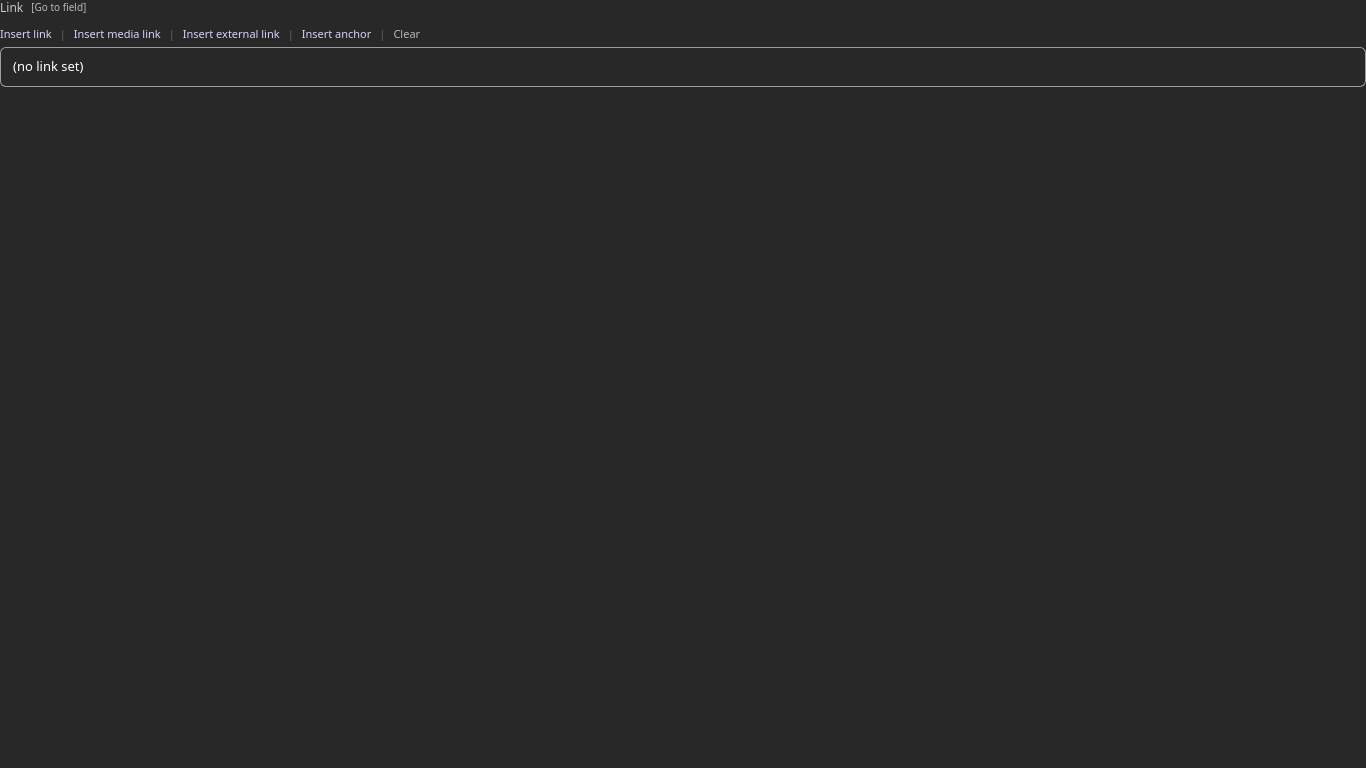
Test: GeneralLinkFieldEditor Insert link integration › clicking Insert external link opens the InsertExternalLinkDialog
Click the button "Insert external link": (231, 34) [183,26,280,42]
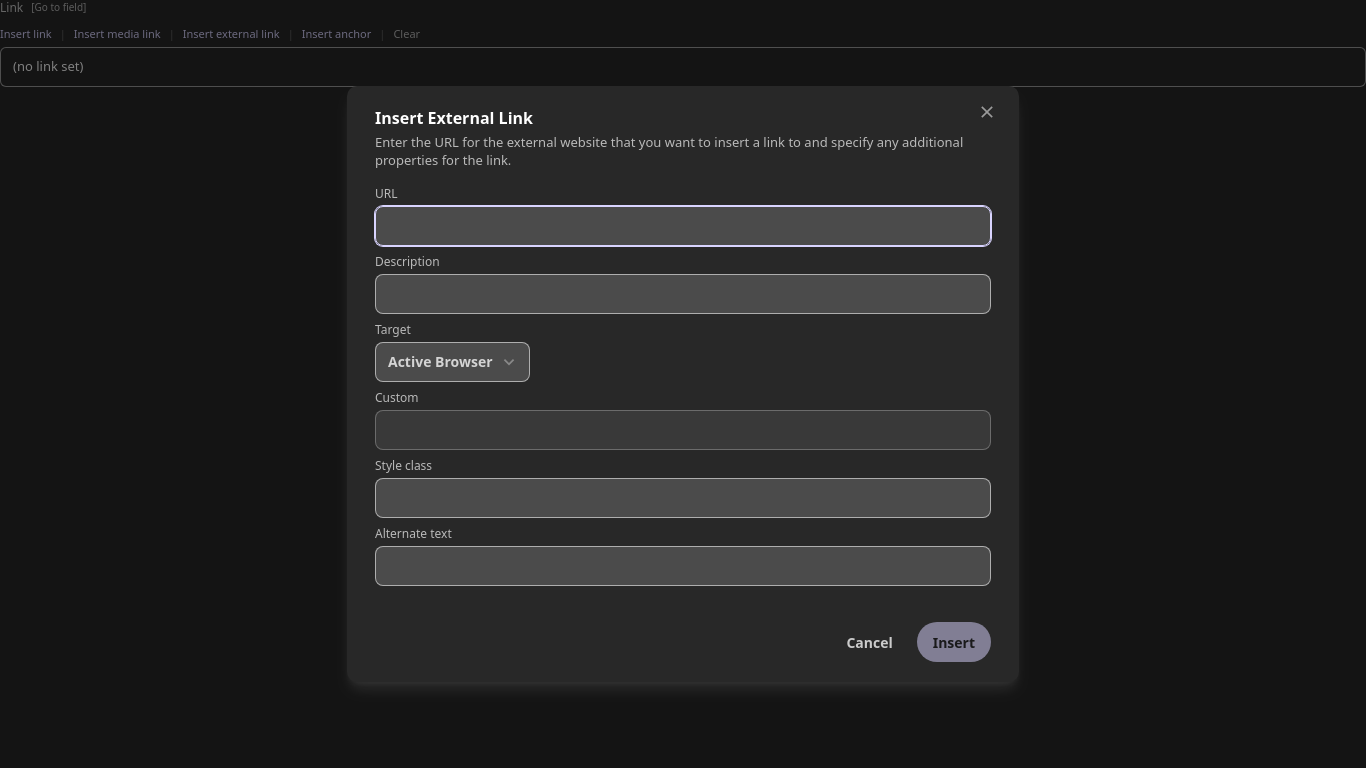
expect the heading "Insert External Link" is shown: met, box [375,107,533,129]
